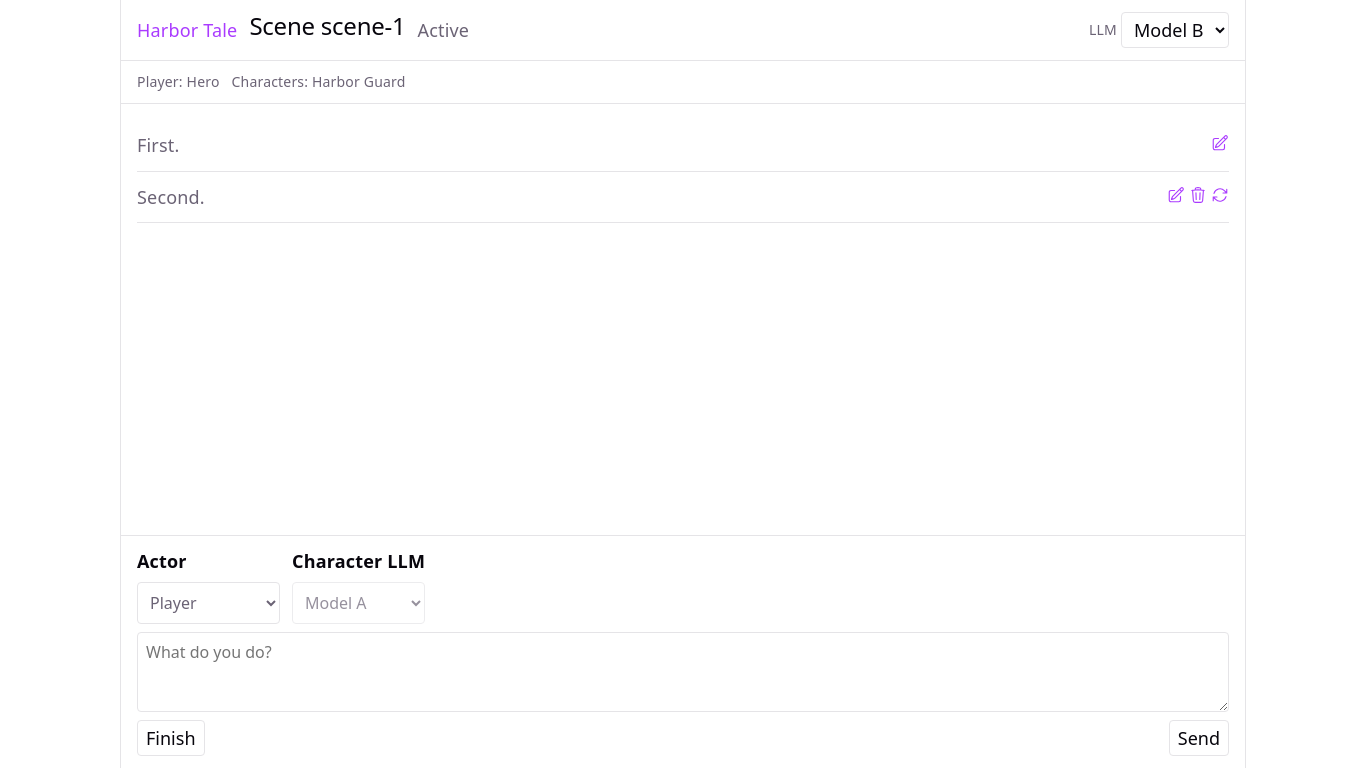
CharacterScenePage › shows the progress label for the selected actor type while sending
The image size is (1366, 768).
Check: the text "First." is shown, box [137,133,180,157]
Type "Look" into the text box named "Action". click: (683, 672)
box: [137,632,1229,712]
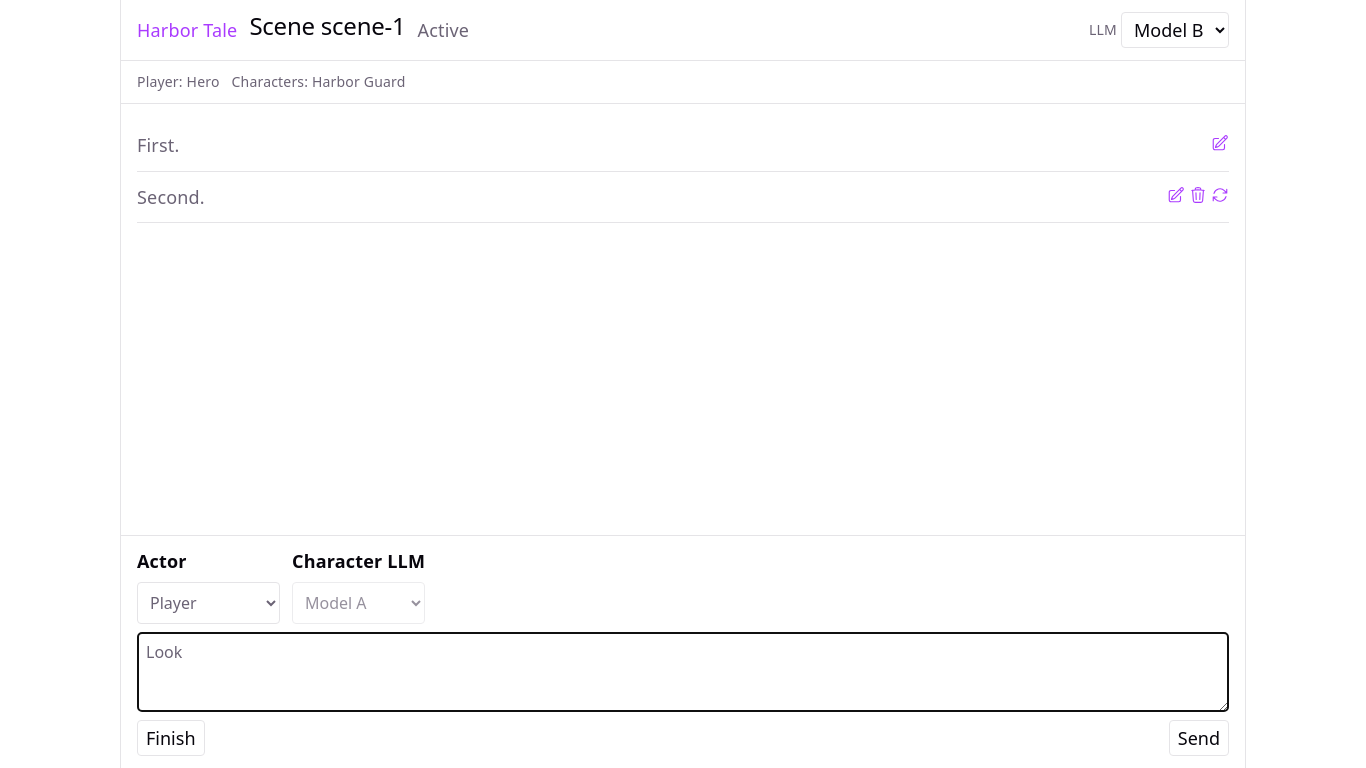
Click the button "Send". click: (1199, 738)
box: [1169,720,1229,756]
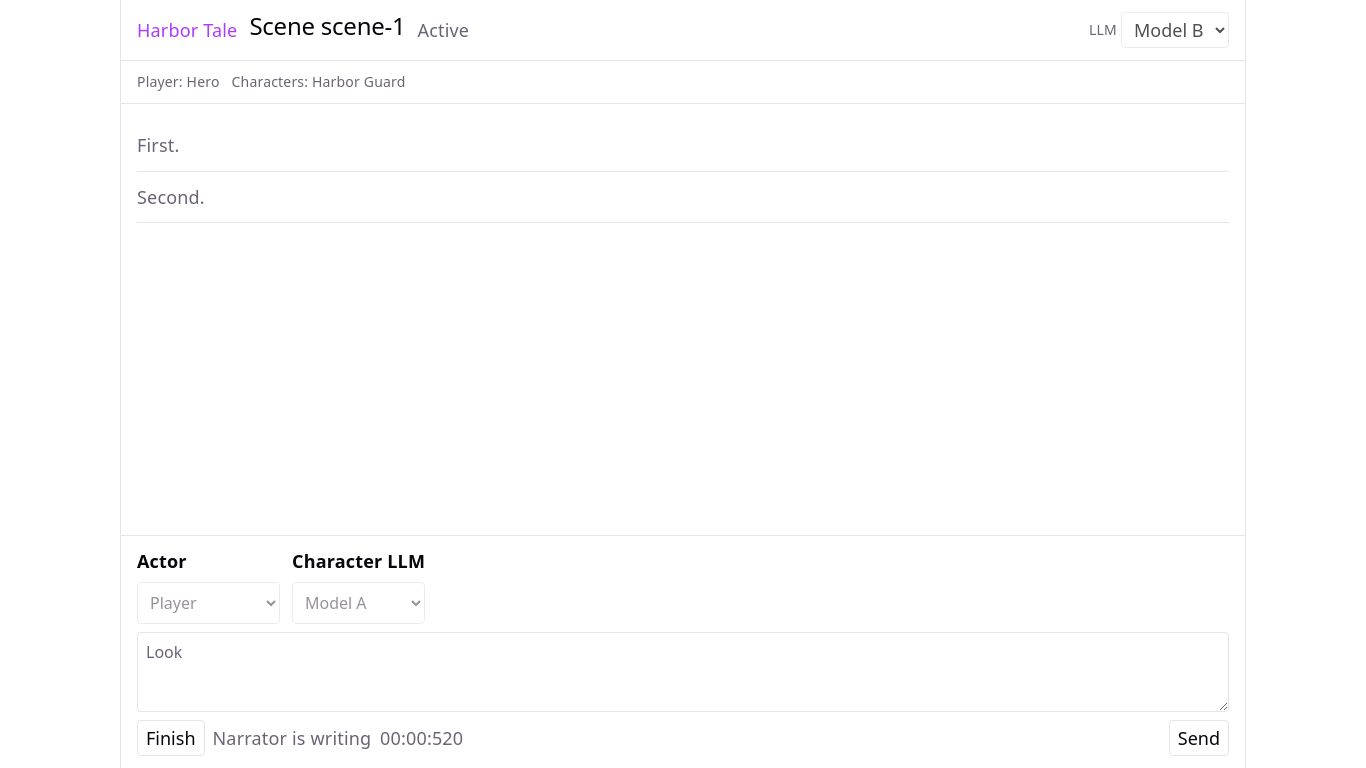
Check: the text "Narrator is writing" is shown, box [212,725,371,751]
